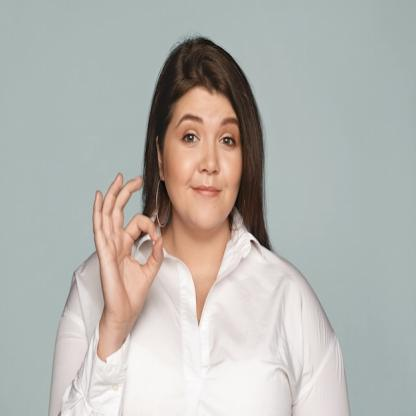ok: (87, 169, 167, 331)
